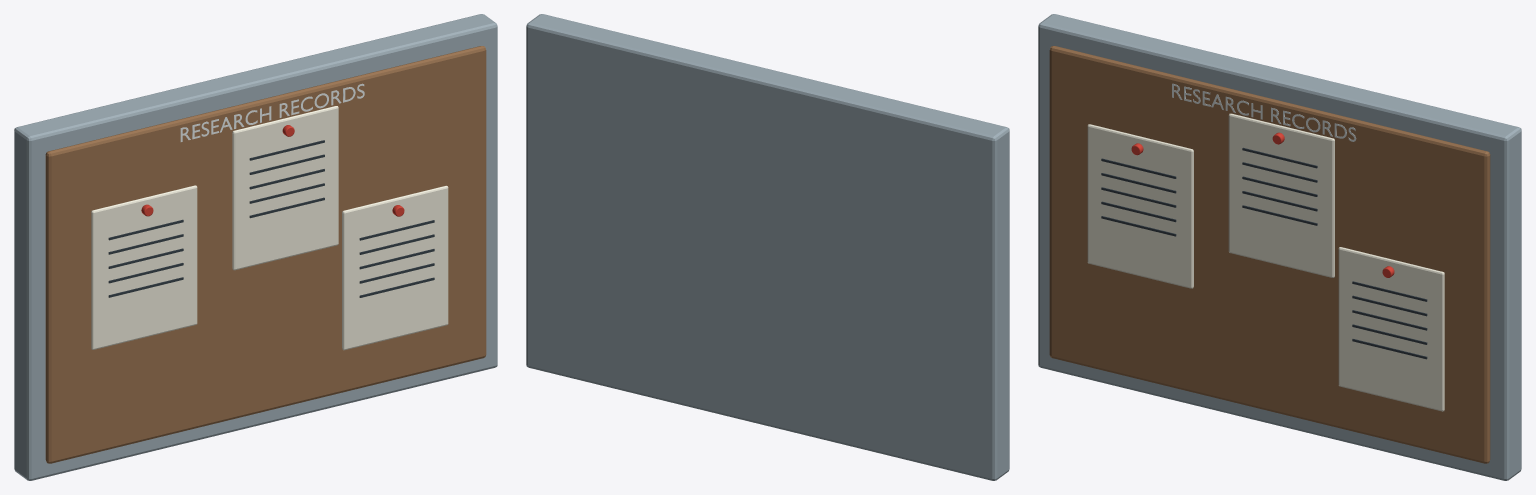
The model's file is noticeboard.glb.
The picture shows the model from 3 angles, left to right: view 1: azimuth 30°, elevation 25°; view 2: azimuth 150°, elevation 25°; view 3: azimuth 330°, elevation 25°; orthographic projection.
Parts seen in each view (by area): view 1: Cork inset, Frame, Document.002, Document, Document.001, Heading; view 2: Frame; view 3: Cork inset, Frame, Document.002, Document.001, Document, Heading.
Boxes of the visible parts, <box> form: Cork inset: <box>45,46,486,463</box>; Frame: <box>14,14,497,480</box>; Document.002: <box>342,185,448,350</box>; Document: <box>91,185,197,349</box>; Document.001: <box>232,106,338,270</box>; Heading: <box>180,83,364,141</box>; Frame: <box>526,14,1009,480</box>; Cork inset: <box>1049,46,1490,463</box>; Frame: <box>1038,14,1521,480</box>; Document.002: <box>1338,247,1444,411</box>; Document.001: <box>1228,113,1334,277</box>; Document: <box>1087,124,1193,288</box>; Heading: <box>1172,83,1356,141</box>.
Bounding box in the file's own units: 1.2 × 0.84 × 0.1175.
